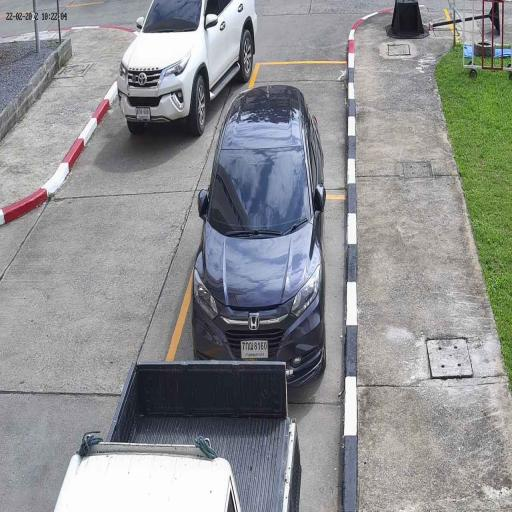car: (190, 83, 326, 393), (53, 360, 302, 512), (117, 0, 258, 136)
